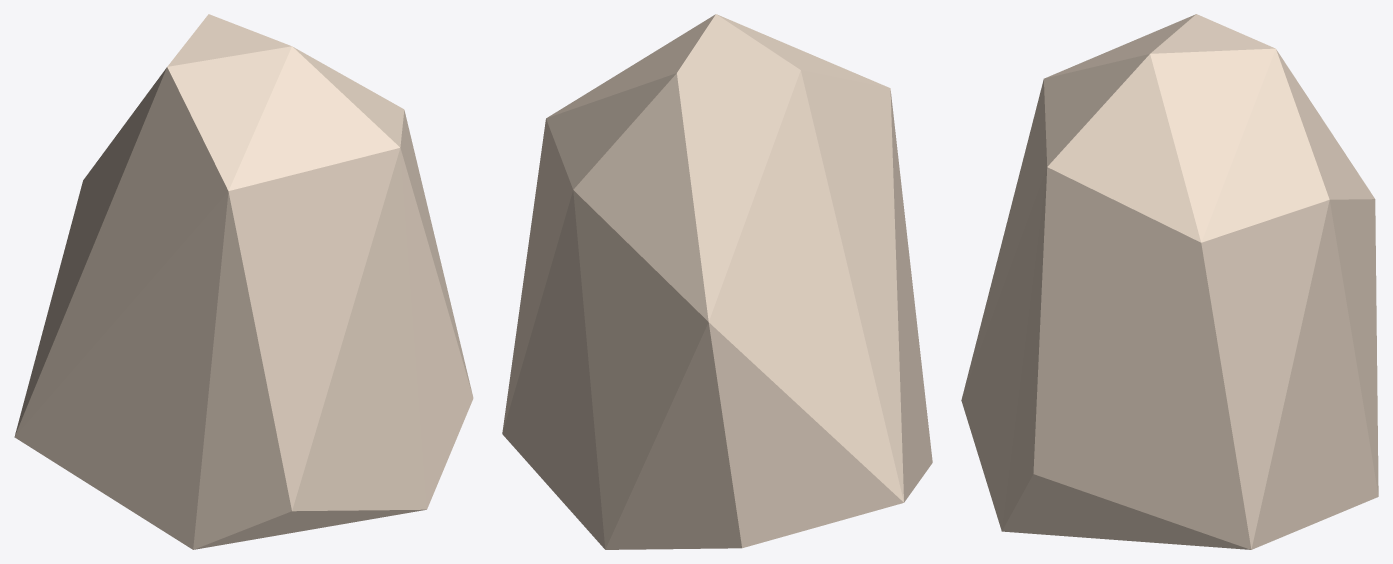
File: Rock_02.FBX
3 renders of one model, left to right at view 1: azimuth 30°, elevation 25°; view 2: azimuth 150°, elevation 25°; view 3: azimuth 270°, elevation 25°, orthographic. The views are drawn at different scales.
Visible parts, largest first — view 1: Rock_02; view 2: Rock_02; view 3: Rock_02.
Part boxes in pixels (x1,y1,x2,y2): Rock_02: (14, 14, 473, 549); Rock_02: (502, 14, 932, 549); Rock_02: (961, 14, 1378, 549).
Bounding box in the file's own units: 1.05 × 1.13 × 0.9548.
